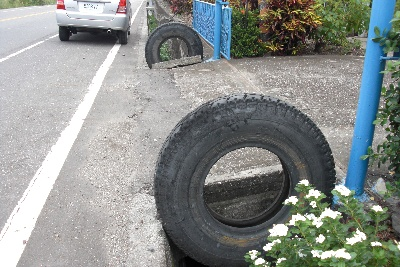tire: (152, 92, 339, 267), (144, 22, 206, 69)
